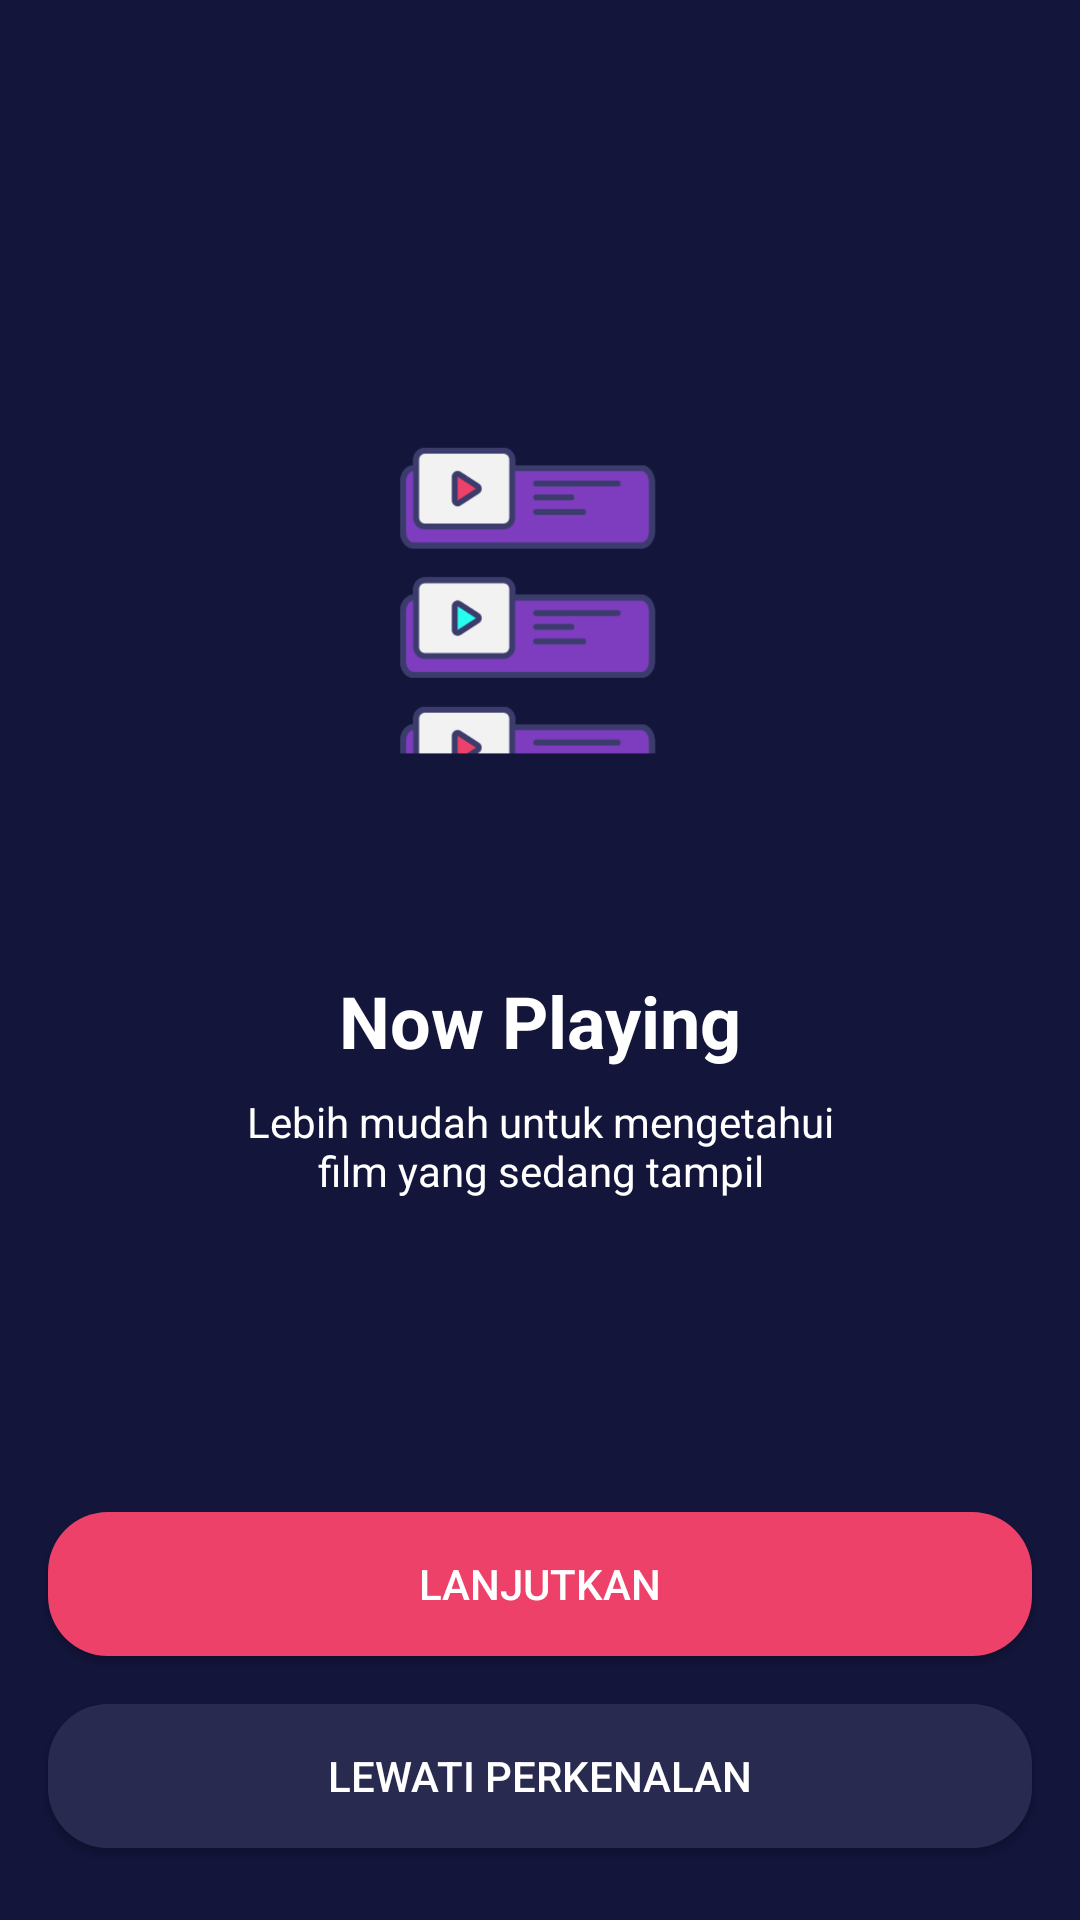

Screen size 1080w x 1920h. Icon name, then its center in pixels as [x,y]:
onboardingone: [527,601]
